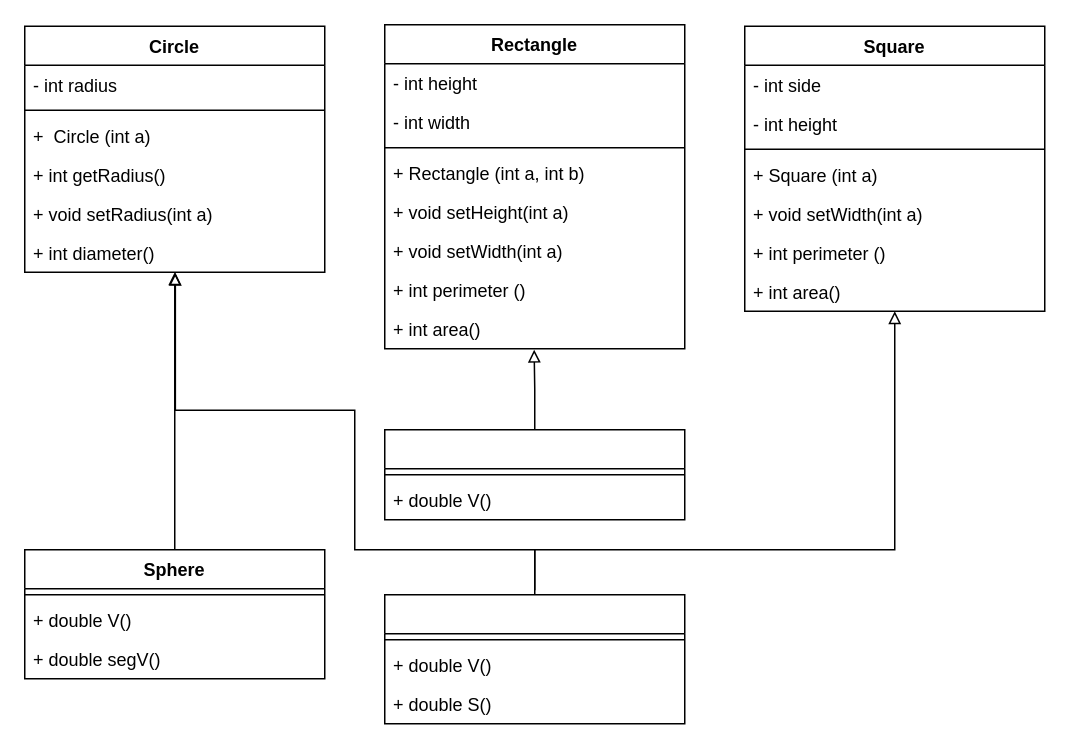
Some shapes in this 1070 by 749 pixel diagram are drawn without their labels. The shapes that lost their labels are listed below. From the top down, each one's box as (x1, y1, x2, y2) in pixels, then its label:
(383, 428, 685, 520): Parallelepiped
(383, 593, 685, 724): Cone
